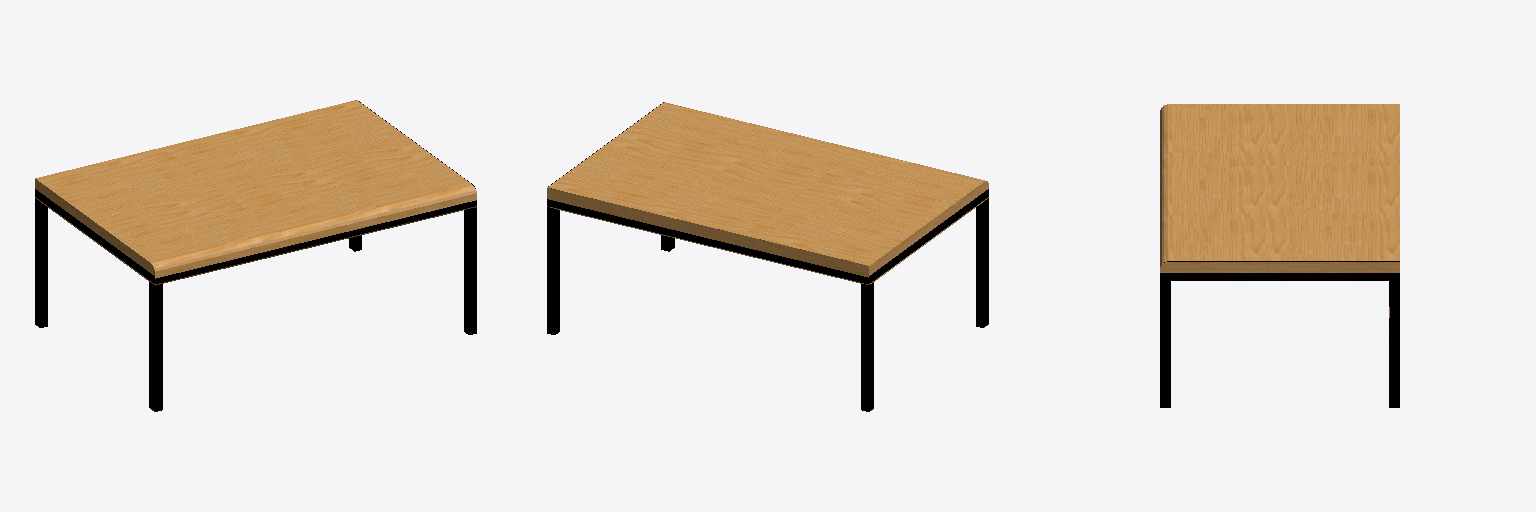
3 renders of one model, left to right at view 1: azimuth 30°, elevation 25°; view 2: azimuth 150°, elevation 25°; view 3: azimuth 270°, elevation 25°, orthographic.
Visible parts, largest first — view 1: cube1; view 2: cube1; view 3: cube1.
Part boxes in pixels (x1,y1,x2,y2): cube1: (35, 100, 476, 411); cube1: (547, 102, 988, 411); cube1: (1160, 104, 1399, 407).
Bounding box in the file's own units: 12.21 × 5.29 × 7.86.
Materials: 1 (1 with a texture image).